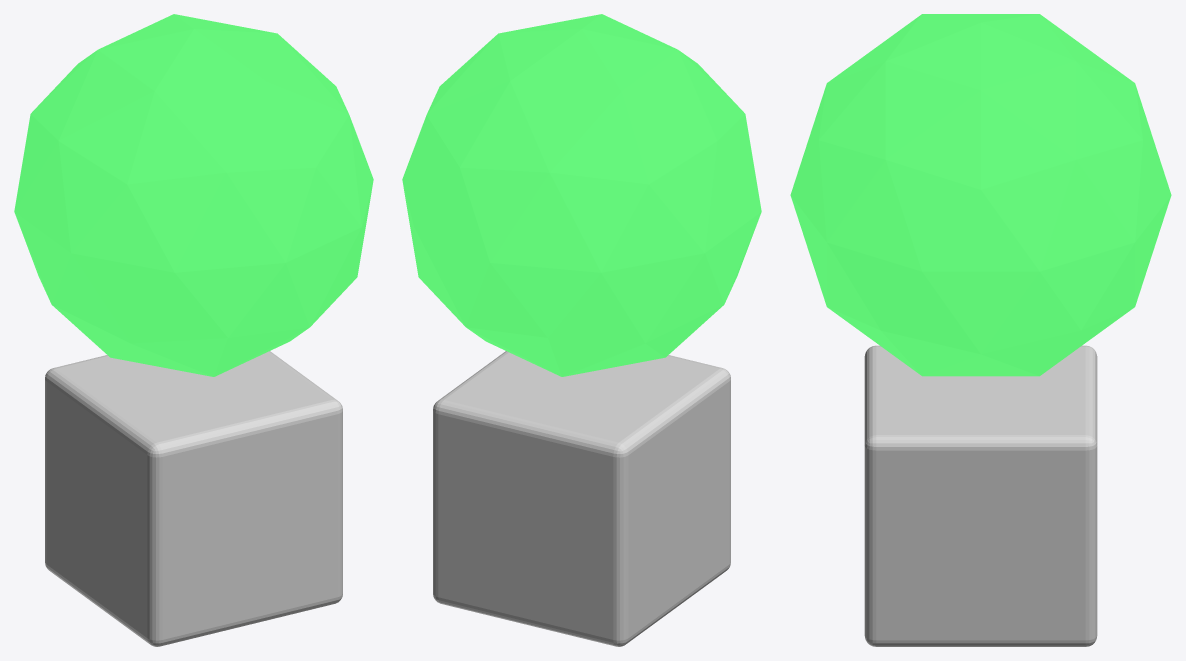
Rendered from demo1.glb.
The picture shows the model from 3 angles, left to right: view 1: azimuth 30°, elevation 25°; view 2: azimuth 150°, elevation 25°; view 3: azimuth 270°, elevation 25°; orthographic projection. The views are drawn at different scales.
Visible parts, largest first — view 1: 棱角球, Cube; view 2: 棱角球, Cube; view 3: 棱角球, Cube.
Part boxes in pixels (bbox=[...]): 棱角球: bbox=[14, 14, 373, 376]; Cube: bbox=[45, 351, 342, 646]; 棱角球: bbox=[402, 14, 761, 376]; Cube: bbox=[433, 351, 730, 646]; 棱角球: bbox=[790, 14, 1171, 376]; Cube: bbox=[864, 345, 1097, 646].
Bounding box in the file's own units: 3.11 × 5.49 × 3.28.
